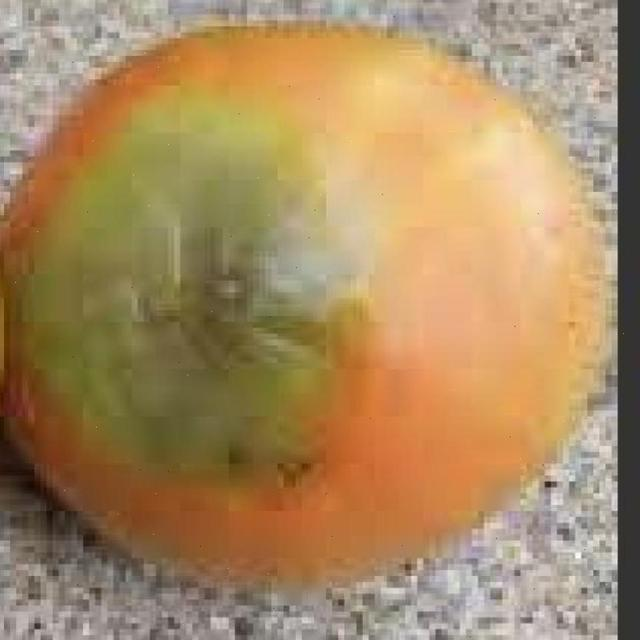Blossom End Rot Fruit: (14, 45, 330, 333)
